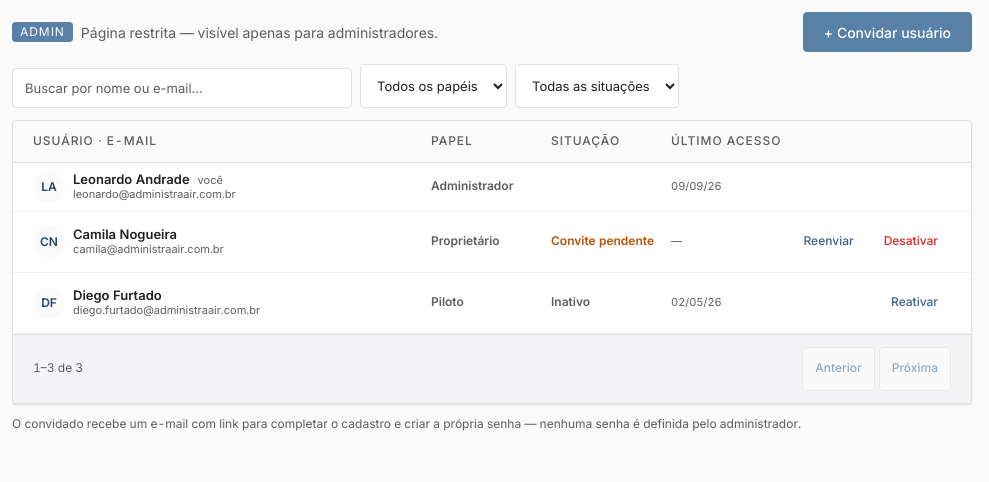
Test: PaginaDeUsuarios › ações na linha › a recusa do reenvio aparece, em vez de sumir em silêncio
Click the button with aria-label "Reenviar convite para Camila Nogueira". click: x=829, y=242
box: [790, 220, 867, 264]
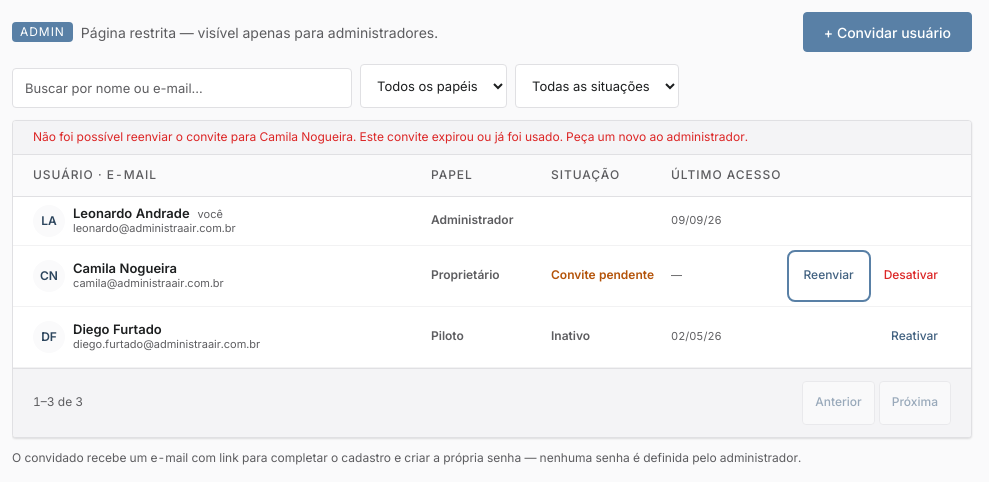
Check: the text "Não foi possível reenviar o convite para Camila Nogueira." is shown, box [33, 129, 748, 144]
